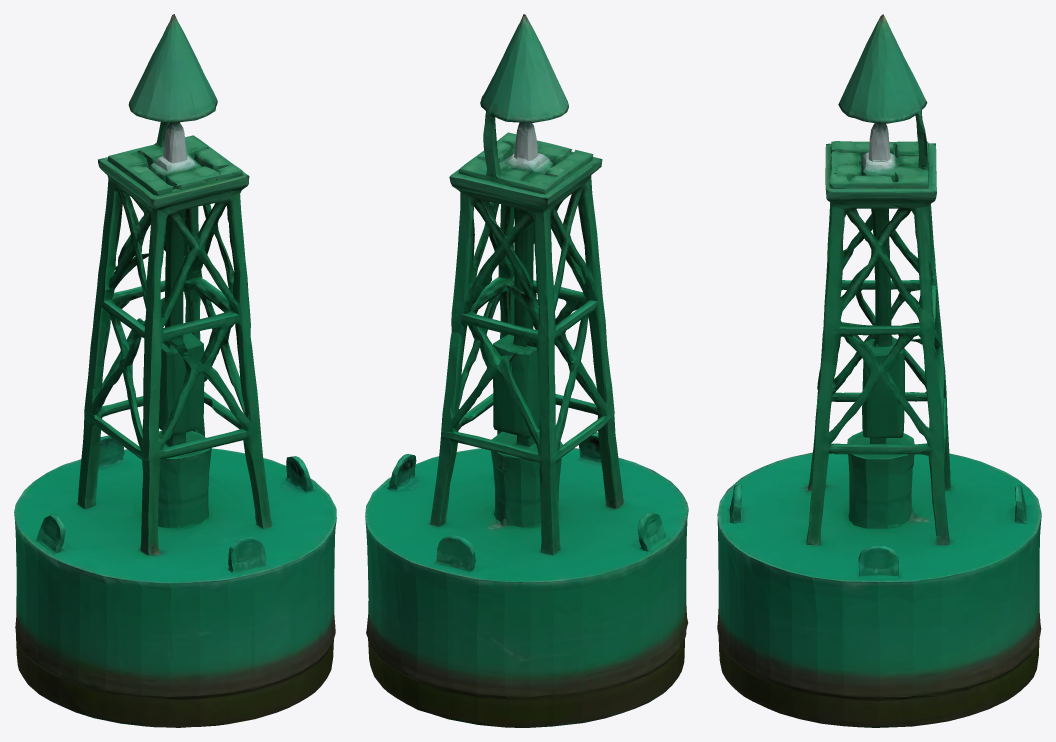
The model's file is buoy-green.glb.
3 renders of one model, left to right at view 1: azimuth 30°, elevation 25°; view 2: azimuth 150°, elevation 25°; view 3: azimuth 270°, elevation 25°, orthographic.
Visible parts, largest first — view 1: geometry_0; view 2: geometry_0; view 3: geometry_0.
Part boxes in pixels (<box>): geometry_0: <box>14,14,336,727</box>; geometry_0: <box>365,14,688,727</box>; geometry_0: <box>717,14,1041,727</box>.
Size of the model in its own units: 0.4472 by 0.9984 by 0.4529.
1 material, 1 textured.
